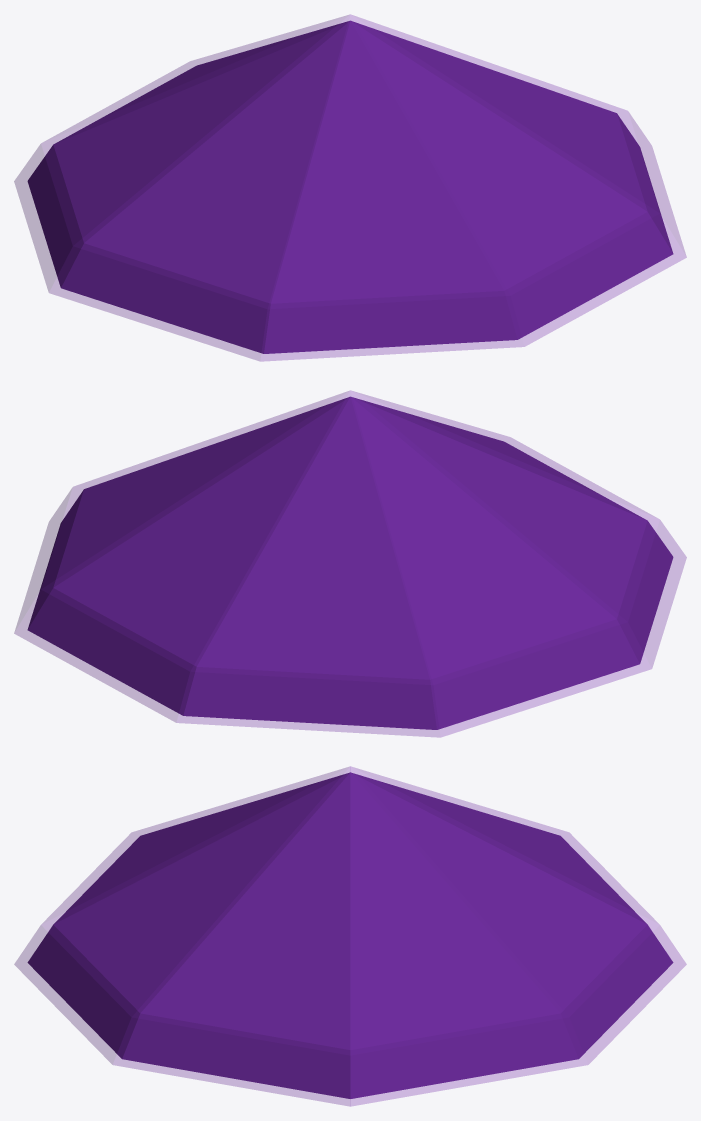
File: item_gem7.glb
The picture shows the model from 3 angles, top to bottom: view 1: azimuth 30°, elevation 25°; view 2: azimuth 150°, elevation 25°; view 3: azimuth 270°, elevation 25°; orthographic projection. The views are drawn at different scales.
Visible parts, largest first — view 1: jewellery_gem7_glass, jewellery_gem7; view 2: jewellery_gem7_glass, jewellery_gem7; view 3: jewellery_gem7_glass, jewellery_gem7.
Boxes of the visible parts, x1,y1,x2,y2 form: jewellery_gem7_glass: [14, 14, 686, 361]; jewellery_gem7: [27, 20, 673, 353]; jewellery_gem7_glass: [14, 390, 686, 737]; jewellery_gem7: [27, 396, 673, 729]; jewellery_gem7_glass: [14, 766, 686, 1106]; jewellery_gem7: [27, 772, 673, 1098].
Bounding box in the file's own units: 1 × 0.5 × 1.
